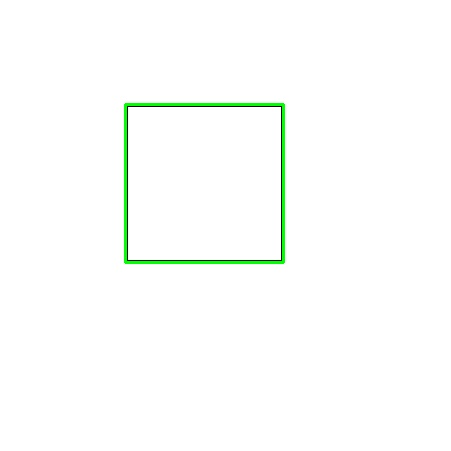line_segment: (124, 103, 285, 264)
